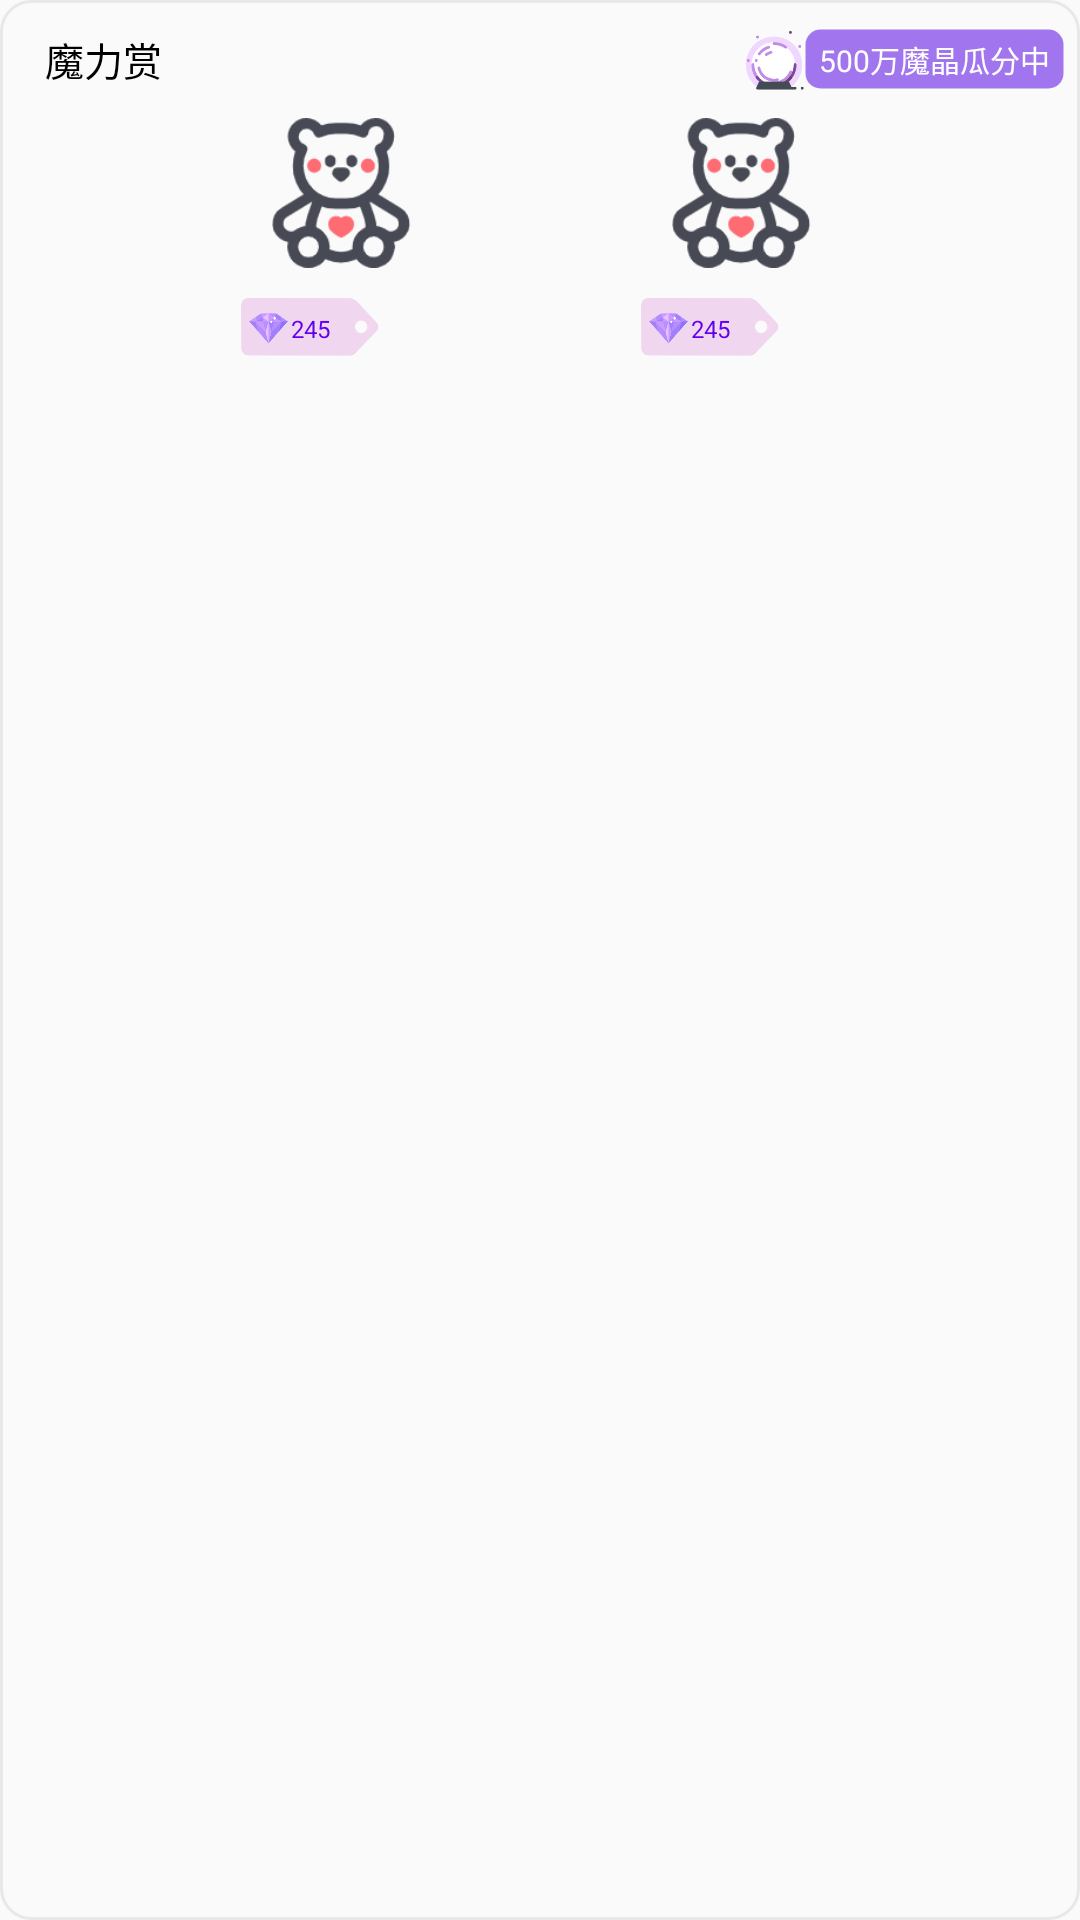

Icon bounding boxes for this 1080*1920 phone screenshot, format detection(x1, y1, x2, y2):
shouban: detection(672, 88, 810, 268), detection(272, 118, 410, 268)
shuijingqiu: detection(746, 31, 804, 90)
